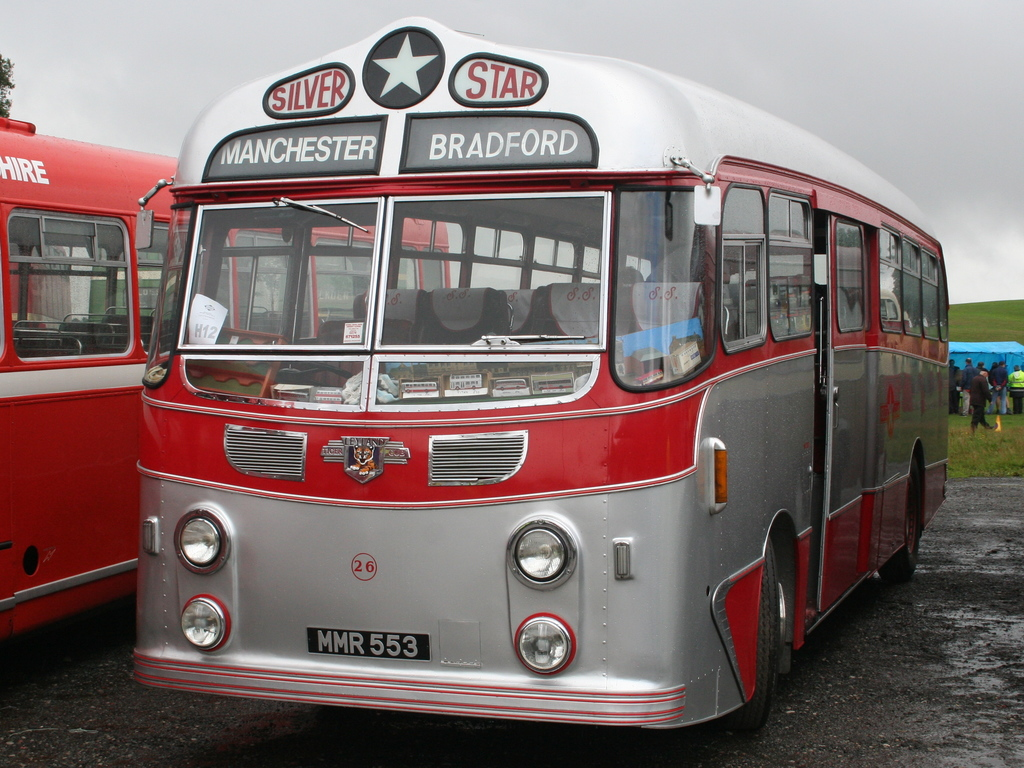Bus: (131, 7, 950, 747), (0, 119, 454, 641)
